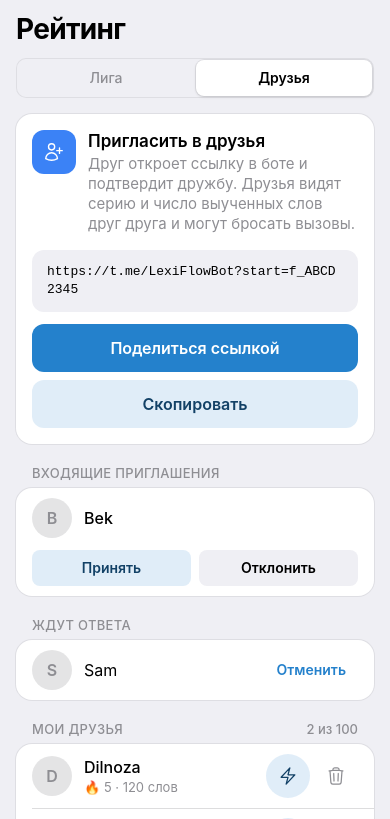
Test: FriendsView › the friends › keeps the friend when the removal is cancelled
Click the 1st button with test id "remove-btn": (336, 776) top-left (314, 754), bottom-right (358, 798)
(page scrolled)
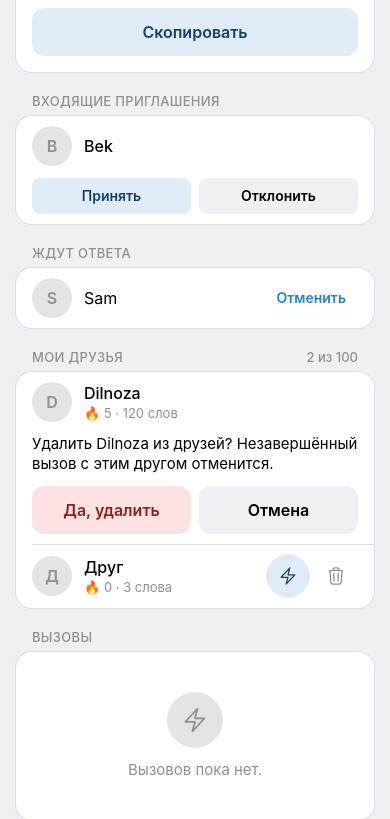
Click the button with test id "remove-no": (278, 510) top-left (199, 486), bottom-right (358, 534)
(page scrolled)
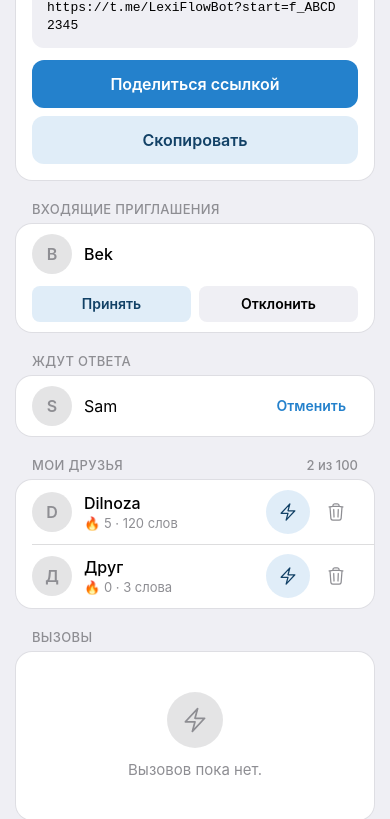
Check: the number of buttons with test id "remove-btn" is 2, box top-left (314, 490), bottom-right (358, 534); top-left (314, 554), bottom-right (358, 598)
